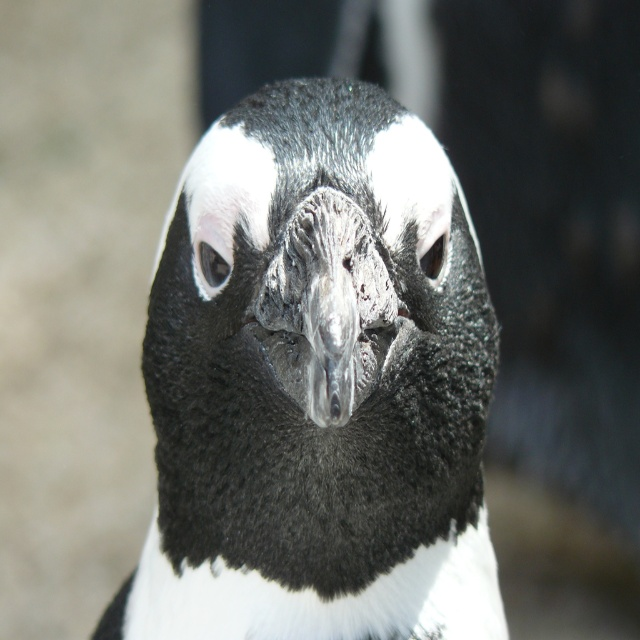Penguin: (131, 52, 531, 611)
